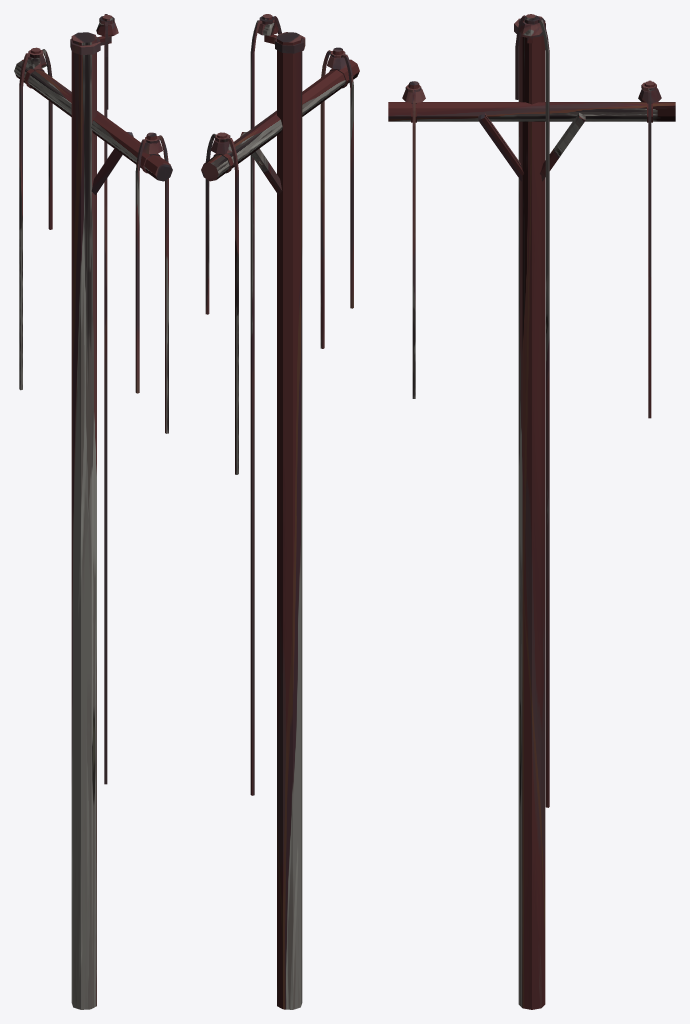
File: power pole.fbx
The picture shows the model from 3 angles, left to right: view 1: azimuth 30°, elevation 25°; view 2: azimuth 150°, elevation 25°; view 3: azimuth 270°, elevation 25°; orthographic projection.
Parts seen in each view (by area): view 1: power pole; view 2: power pole; view 3: power pole.
Boxes of the visible parts, <box> form: power pole: <box>14,14,172,1009</box>; power pole: <box>201,14,359,1009</box>; power pole: <box>388,14,675,1009</box>.
Bounding box in the file's own units: 179 × 3648 × 950.
